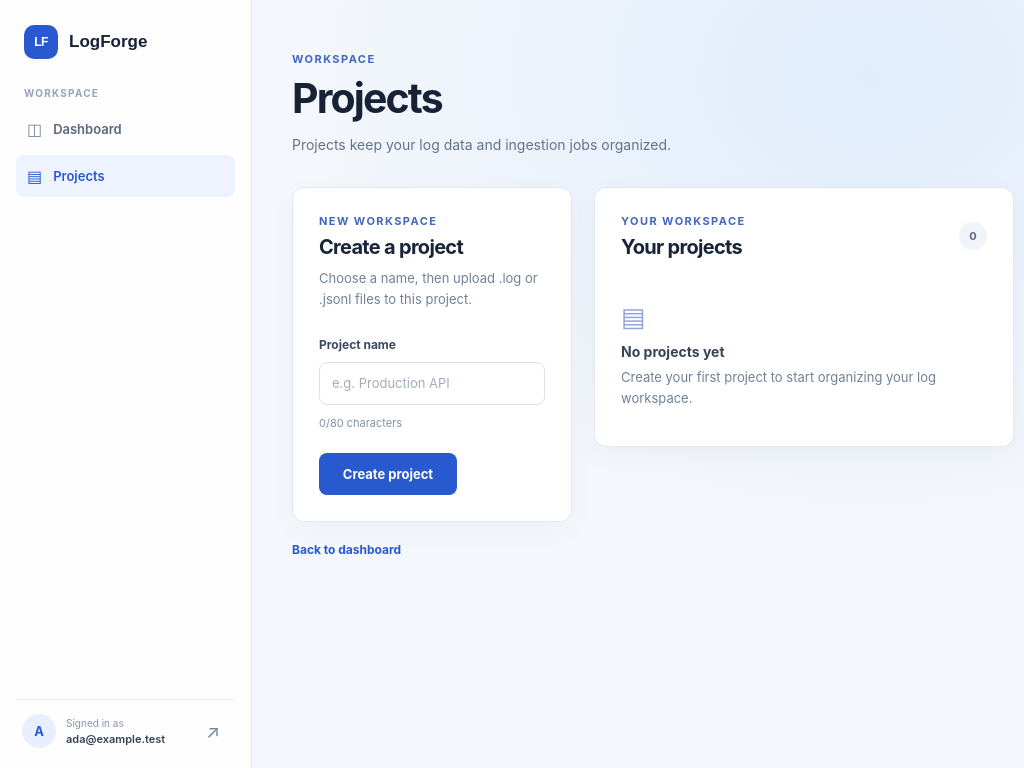
Test: projects page › creates a project and reloads the authorized list
The image size is (1024, 768).
Expected: the heading "No projects yet" is shown, [621,343,724,360]
Type "  Payments API  " into the field labelled "Project name" at [432, 383], box [319,362,545,405]
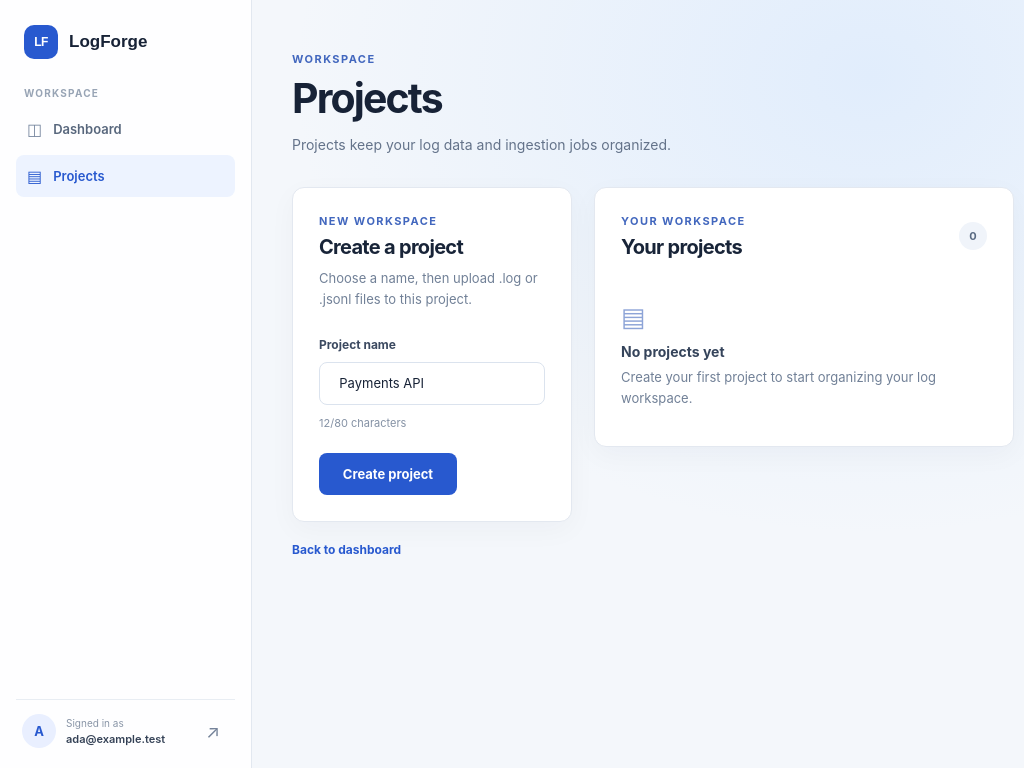
Click the button "Create project" at [388, 474], box [319,453,457,495]
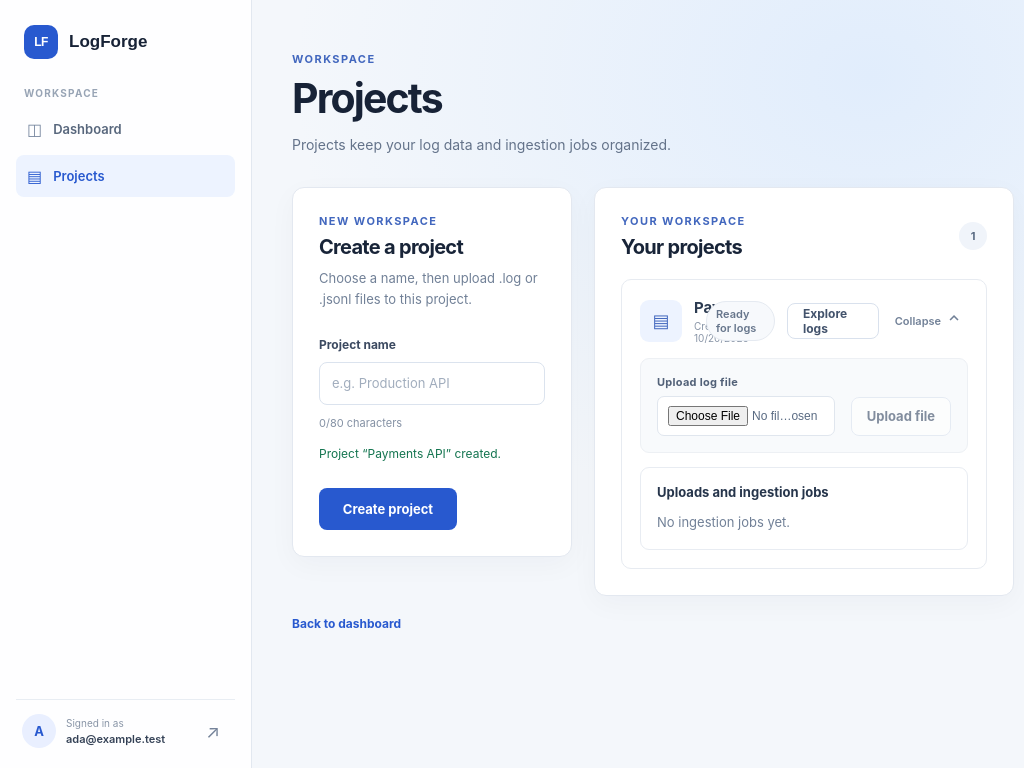
Expected: the text "Payments API" is shown, [694,298,749,317]
Expected: the text "Project “Payments API” created." is shown, [319,446,501,461]
